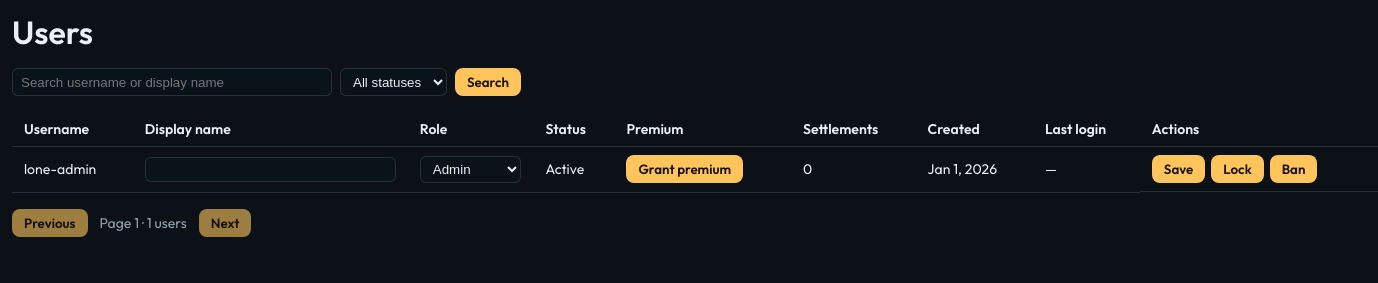
Test: AdminUsersView guards › renders the last-admin-demotion rejection as a row error instead of applying the change
Select "Player" in the dropdown with class "cell-input" in the row of "lone-admin" at (471, 169), box [420, 156, 521, 183]
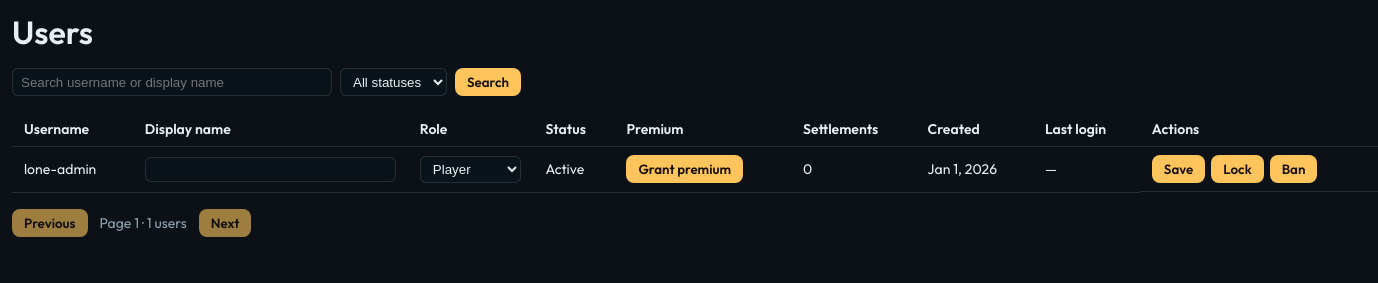
Click the button "Save".
click(1179, 169)  # box [1152, 155, 1205, 183]
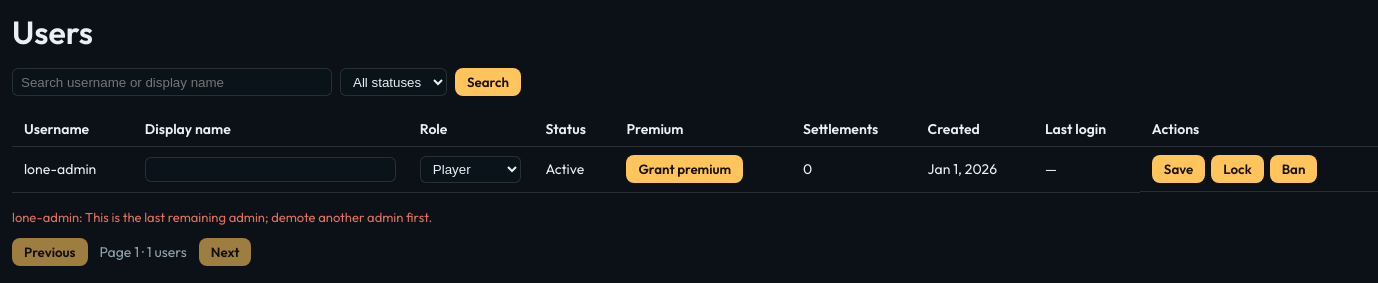
Expected: the text with class "status" reads "active", [545, 160, 584, 178]
Expected: the text "This is the last remaining admin; demote another admin first." is shown, [12, 208, 432, 224]
